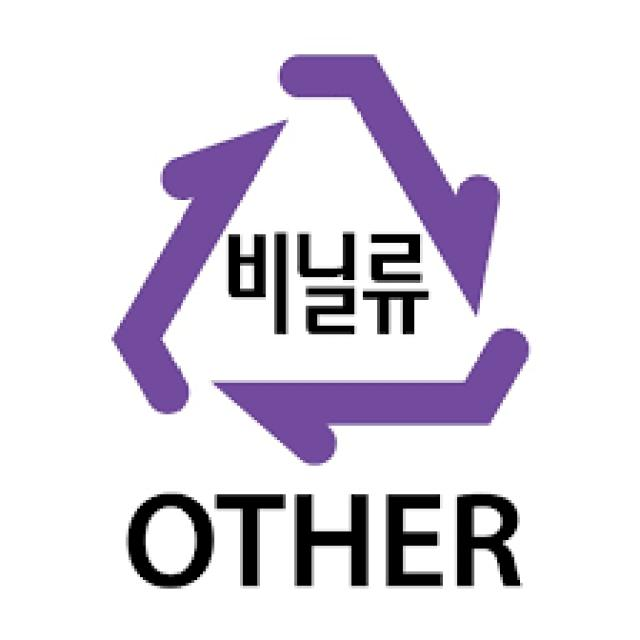Vinyl: (105, 40, 533, 468)
